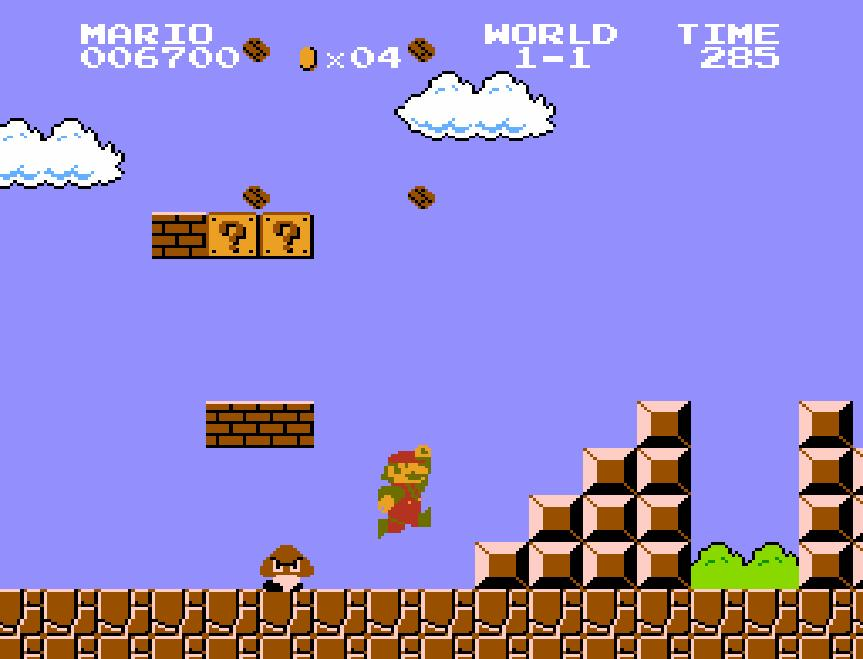big_mario: (376, 443, 434, 541)
